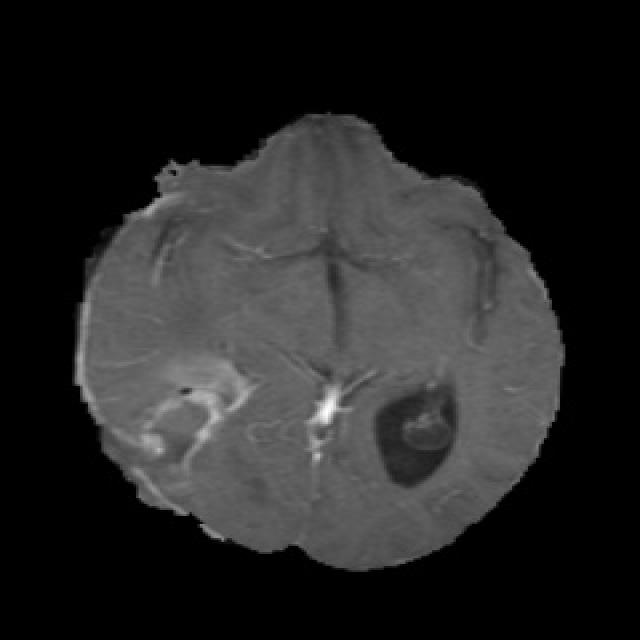negative: (136, 387, 227, 453)
